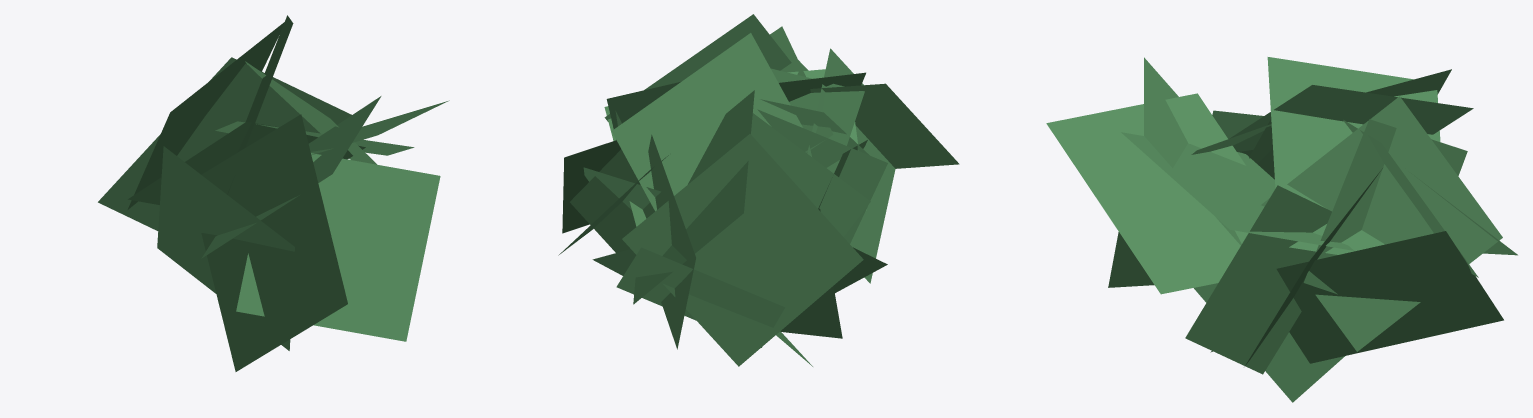
The model's file is Foliage_Bushes_Bush_Bush1.glb.
3 renders of one model, left to right at view 1: azimuth 30°, elevation 25°; view 2: azimuth 150°, elevation 25°; view 3: azimuth 270°, elevation 25°, orthographic. The views are drawn at different scales.
Visible parts, largest first — view 1: Plane.101; view 2: Plane.101; view 3: Plane.101.
Part boxes in pixels (x1,y1,x2,y2): Plane.101: (98,15,449,371); Plane.101: (558,14,959,366); Plane.101: (1046,57,1517,402).
Size of the model in its own units: 2.46 by 2.42 by 2.99.
